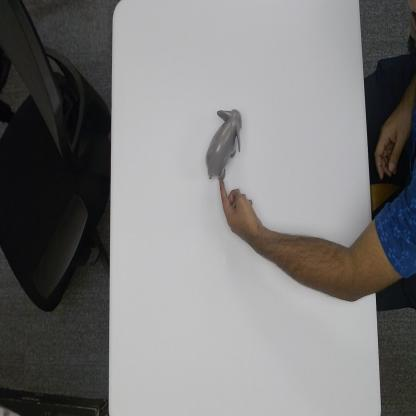Arm: (262, 217, 374, 305)
Elephant: (204, 103, 243, 183)
Hand: (219, 176, 261, 251)
